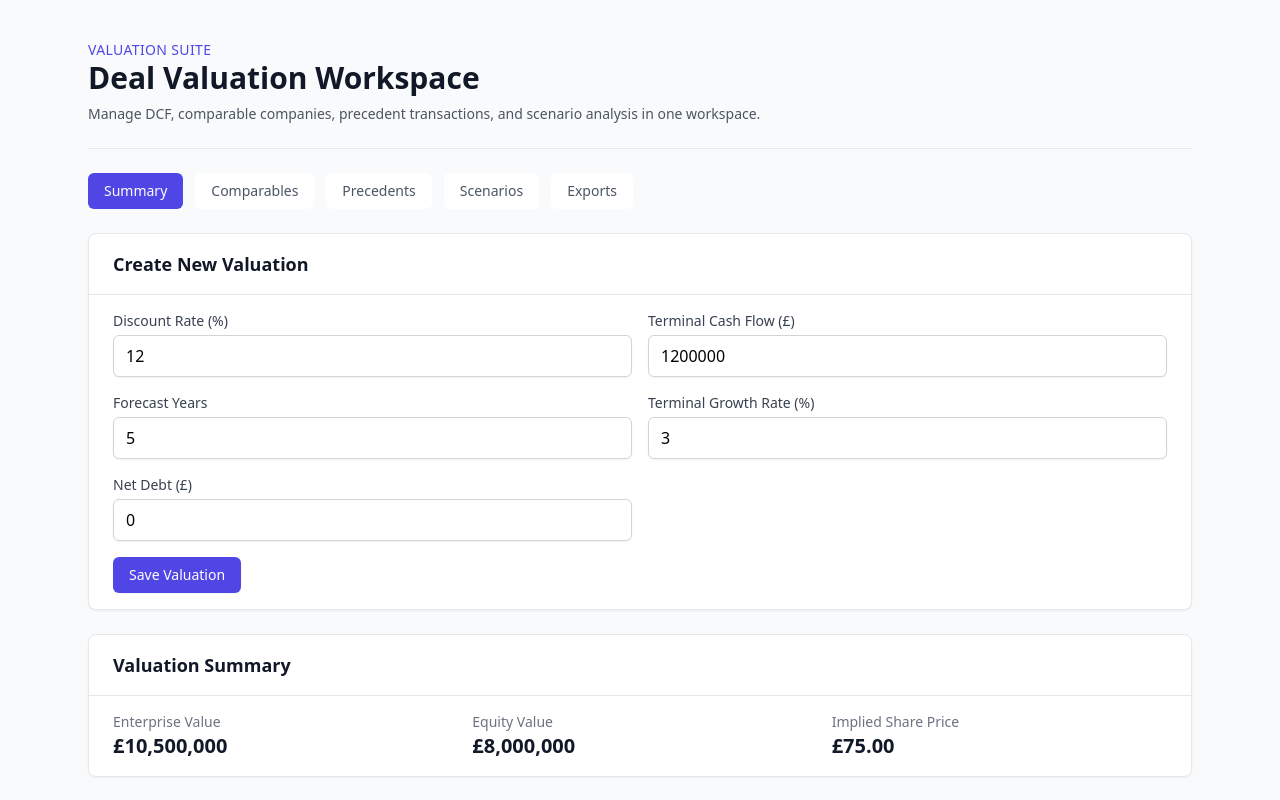
Test: ValuationSuite RED tests › shows upgrade messaging when export is blocked by entitlement
The image size is (1280, 800).
expect the text "£10,500,000" is shown: met, box [113,732,227,759]
Click the tab "Exports" at (592, 191), box [551,173,633,209]
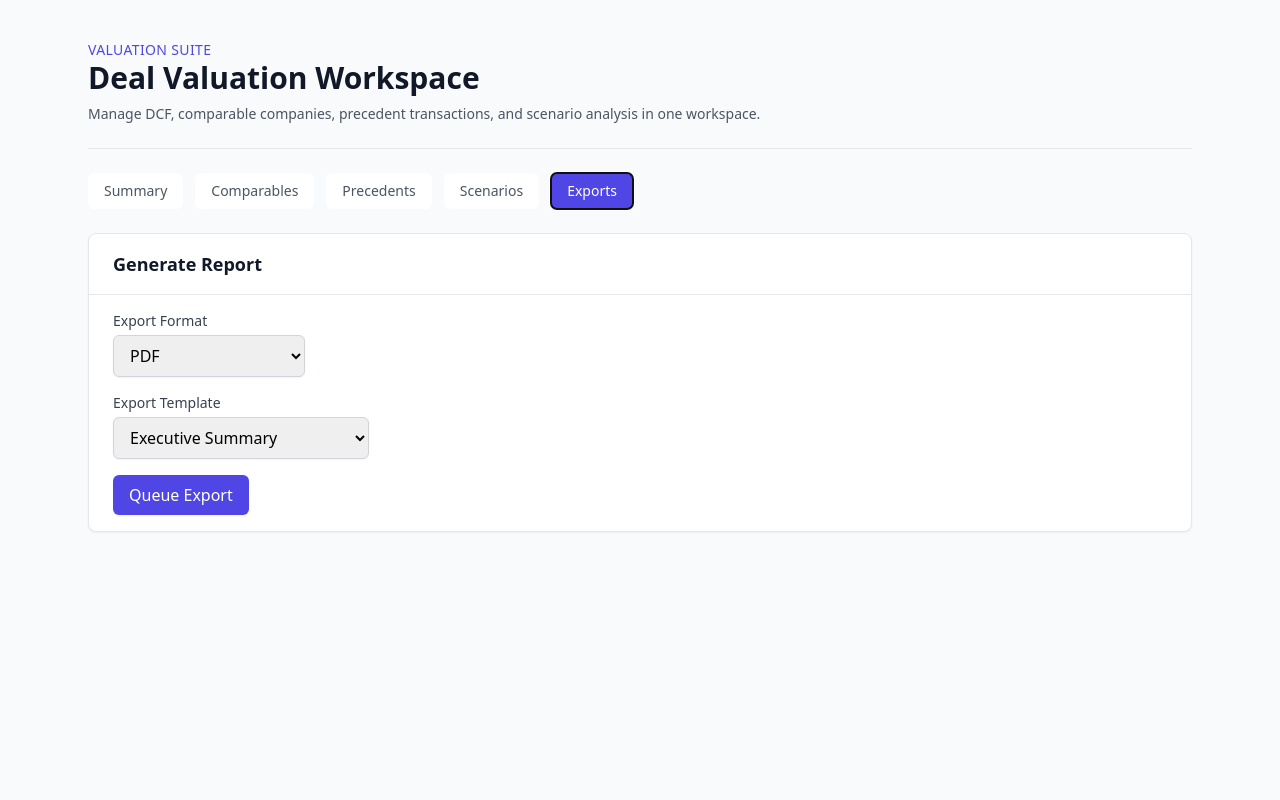
Click the button "Queue Export" at (181, 495), box [113,475,249,515]
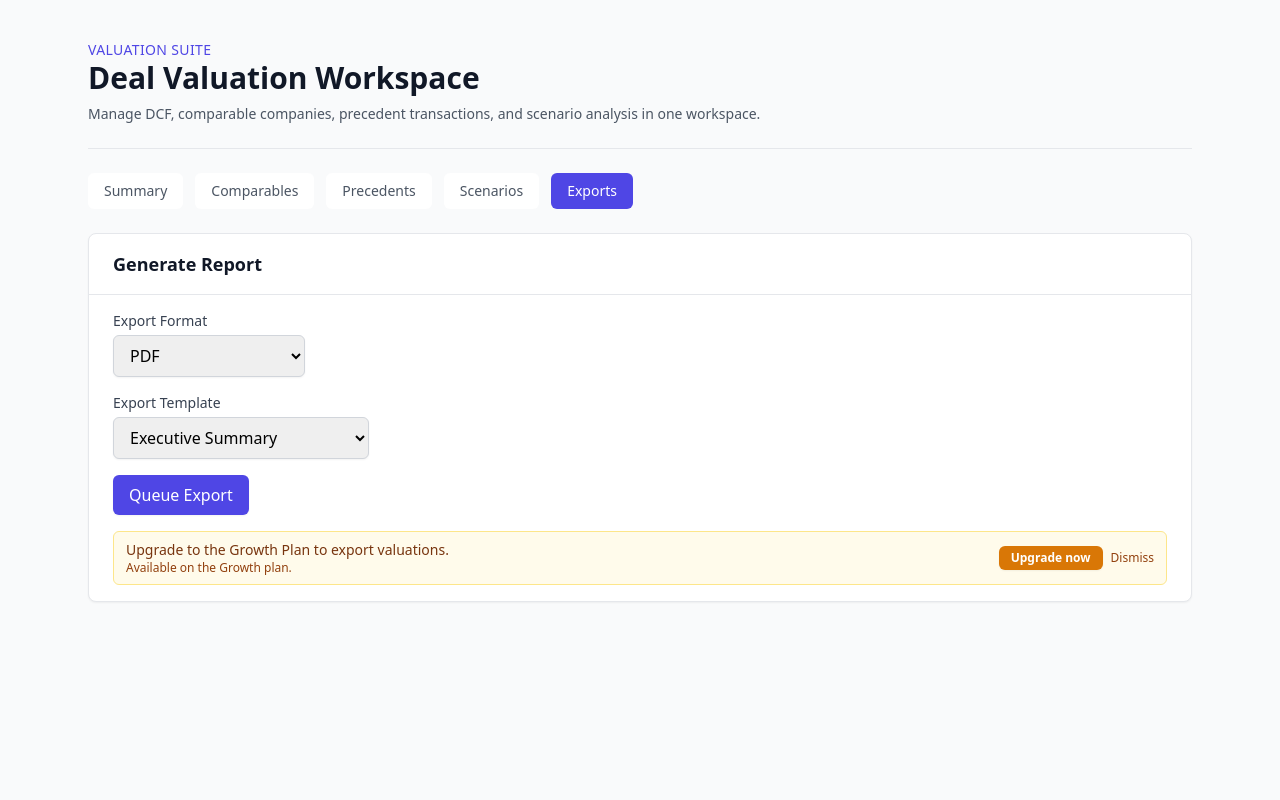
expect the text "Upgrade to the Growth Plan to export valuations." is shown: met, box [126,540,449,560]
expect the text "Available on the Growth plan." is shown: met, box [126,559,292,576]
